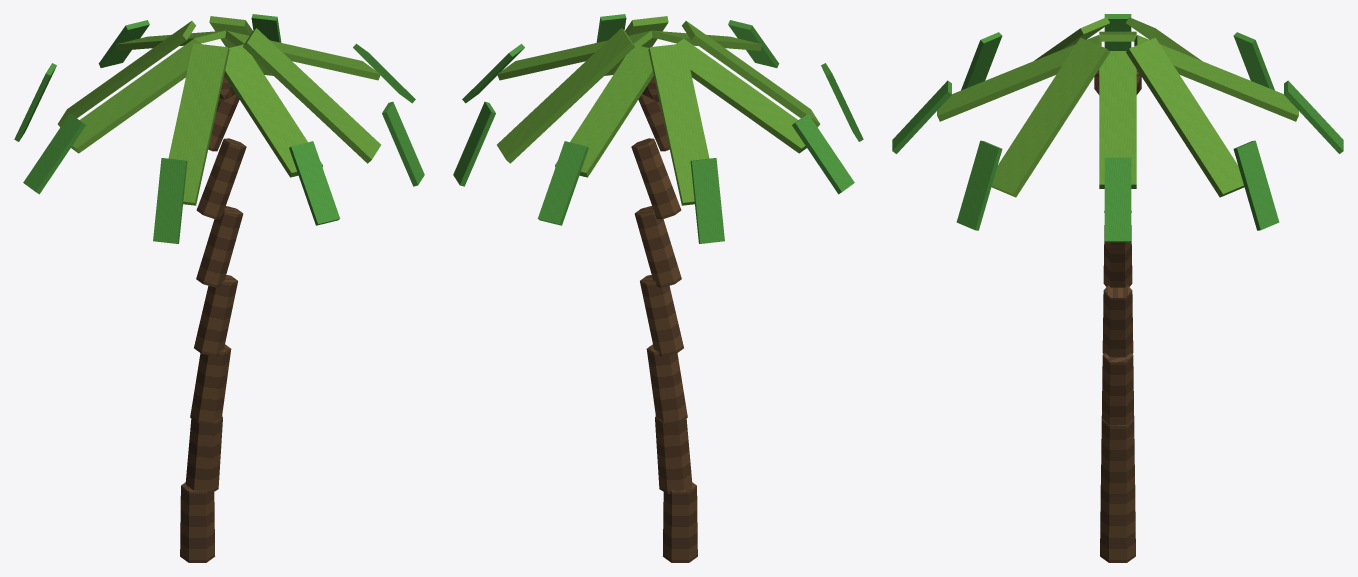
File: tree-palm-lod0.glb
The picture shows the model from 3 angles, left to right: view 1: azimuth 30°, elevation 25°; view 2: azimuth 150°, elevation 25°; view 3: azimuth 270°, elevation 25°; orthographic projection. The views are drawn at different scales.
Parts seen in each view (by area): view 1: tree-palm-lod0; view 2: tree-palm-lod0; view 3: tree-palm-lod0.
Boxes of the visible parts, x1,y1,x2,y2 form: tree-palm-lod0: [14, 14, 424, 562]; tree-palm-lod0: [453, 14, 863, 562]; tree-palm-lod0: [892, 14, 1343, 562].
Size of the model in its own units: 6.5 by 8.49 by 6.5.
1 material, 1 textured.
